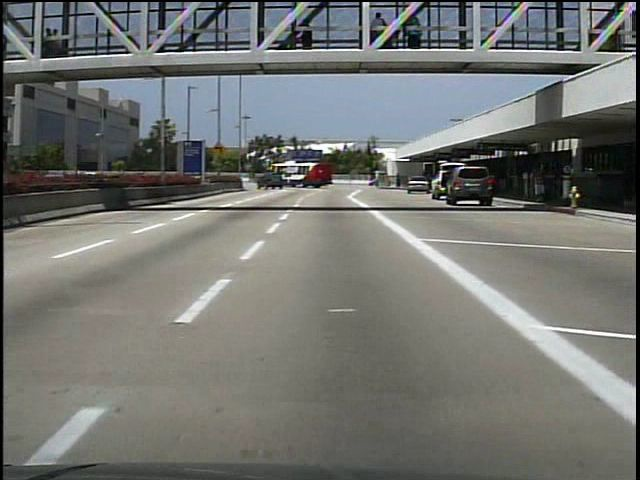person: (526, 158, 550, 204), (42, 24, 65, 63), (295, 18, 317, 53)
